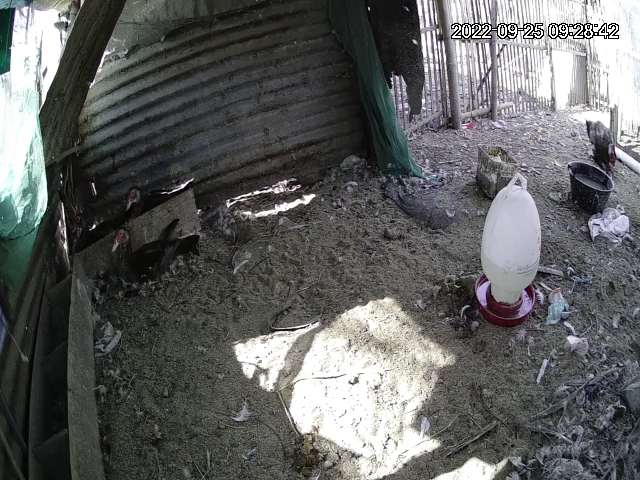Mengeram: (69, 177, 197, 289)
